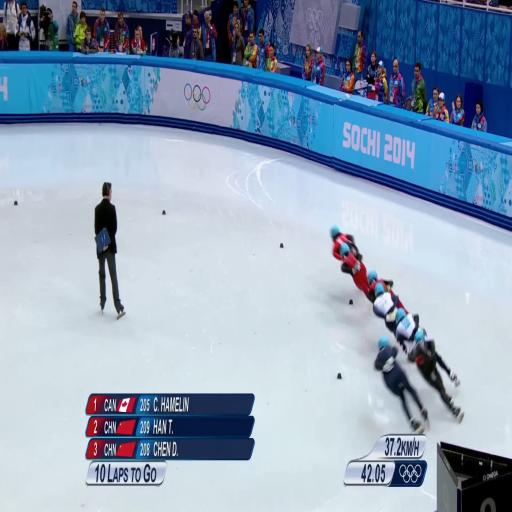Skater: (375, 337, 428, 433), (408, 330, 463, 422), (339, 244, 370, 297), (373, 284, 399, 336), (395, 308, 420, 352), (331, 226, 362, 261), (368, 270, 395, 302)
